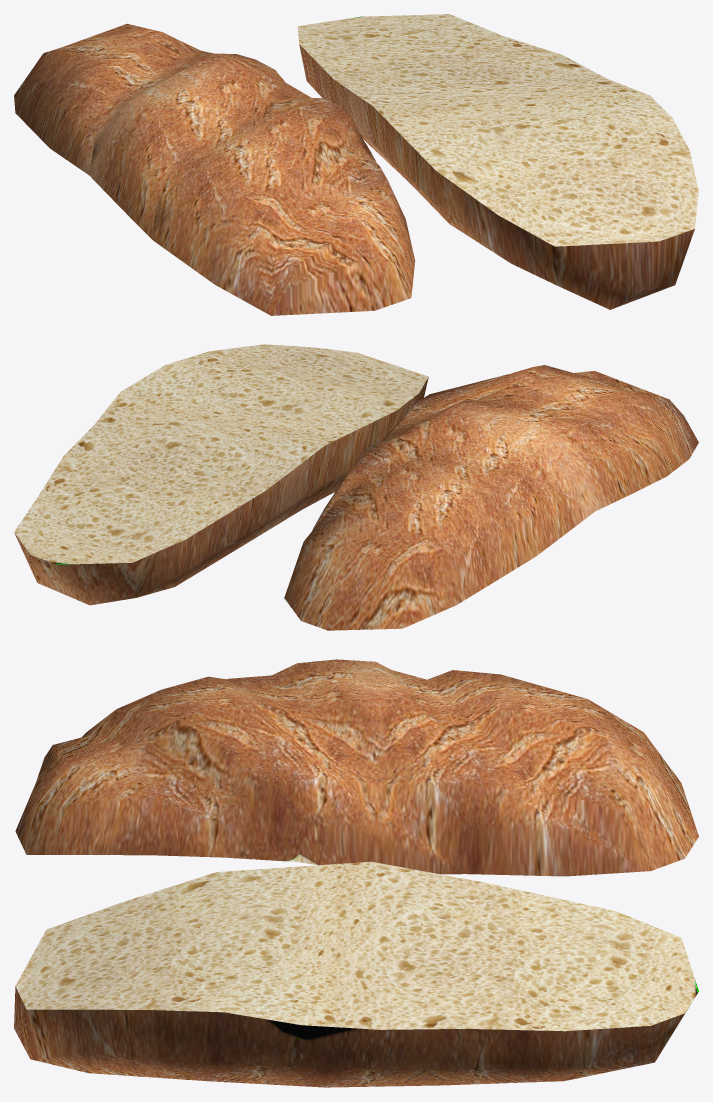
Rendered from Pancito.fbx.
The picture shows the model from 3 angles, top to bottom: view 1: azimuth 30°, elevation 25°; view 2: azimuth 150°, elevation 25°; view 3: azimuth 270°, elevation 25°; orthographic projection. The views are drawn at different scales.
Parts seen in each view (by area): view 1: Pan_Arriba, Pan_Abajo; view 2: Pan_Arriba, Pan_Abajo; view 3: Pan_Abajo, Pan_Arriba.
Part boxes in pixels (<box>): Pan_Arriba: <box>14,23,415,315</box>; Pan_Abajo: <box>297,14,698,309</box>; Pan_Arriba: <box>284,365,698,630</box>; Pan_Abajo: <box>14,344,428,605</box>; Pan_Abajo: <box>14,861,698,1087</box>; Pan_Arriba: <box>15,659,698,876</box>.
Size of the model in its own units: 0.0407 by 0.0144 by 0.0403.
